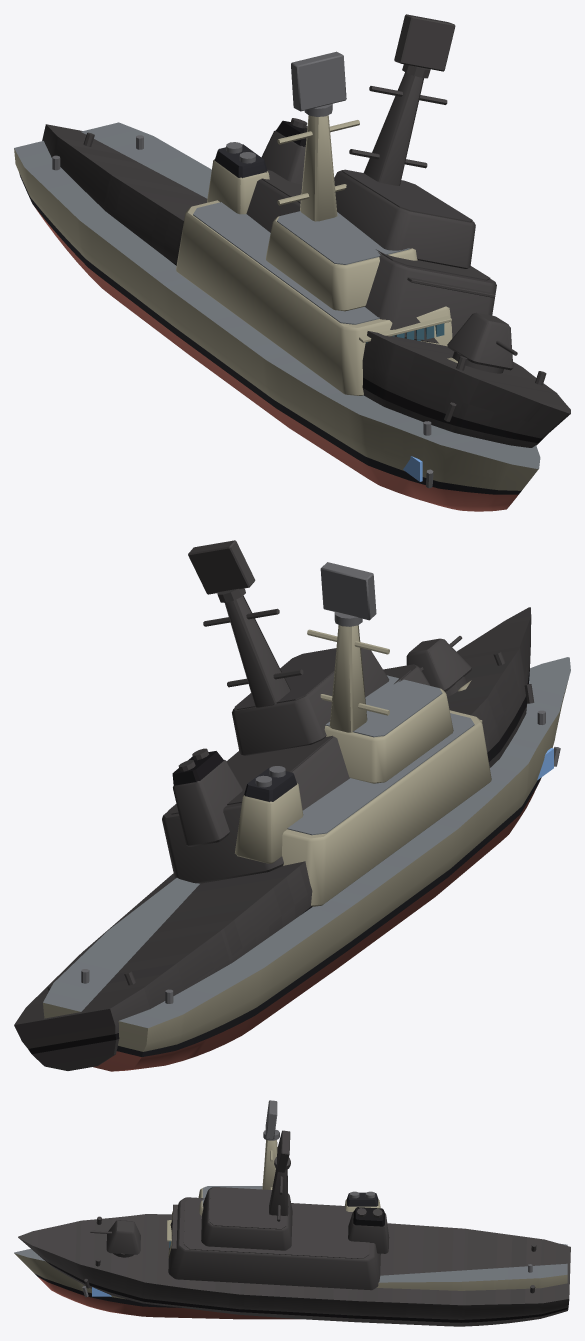
The model's file is gunboat__patrol_boat.glb.
3 views of the same model, one above another, from view 1: azimuth 30°, elevation 25°; view 2: azimuth 150°, elevation 25°; view 3: azimuth 270°, elevation 25° (orthographic). The views are drawn at different scales.
Visible parts, largest first — view 1: Hull_Mesh, Wreck, Radar_Mesh; view 2: Hull_Mesh, Wreck, Radar_Mesh; view 3: Wreck, Hull_Mesh, Radar_Mesh.
Part boxes in pixels (x1,y1,x2,y2): Hull_Mesh: [14, 115, 540, 511]; Wreck: [42, 14, 570, 447]; Radar_Mesh: [291, 51, 346, 116]; Hull_Mesh: [43, 625, 570, 1071]; Wreck: [14, 540, 534, 1070]; Radar_Mesh: [320, 562, 376, 626]; Wreck: [18, 1130, 570, 1326]; Hull_Mesh: [14, 1140, 567, 1319]; Radar_Mesh: [263, 1100, 279, 1140].
Size of what is drawn, in the model's own units: 10.11 by 15.25 by 36.7.
